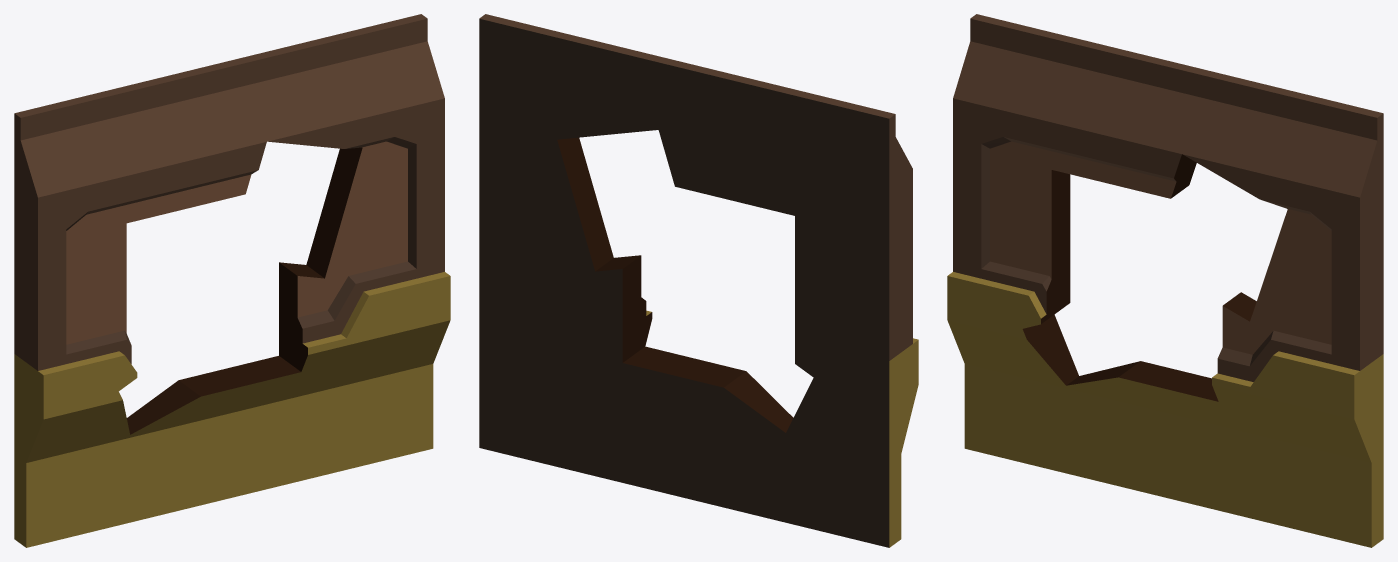
File: ruins_hk_wall_b.obj
3 views of the same model, side by side, from view 1: azimuth 30°, elevation 25°; view 2: azimuth 150°, elevation 25°; view 3: azimuth 330°, elevation 25° (orthographic).
Parts seen in each view (by area): view 1: piece; view 2: piece; view 3: piece.
Part boxes in pixels (x1=…): piece: x1=14, y1=14, x2=450, y2=547; piece: x1=479, y1=14, x2=918, y2=547; piece: x1=947, y1=14, x2=1383, y2=547.
Bounding box in the file's own units: 5 × 5 × 0.6208.
Materials: 1 (1 with a texture image).
